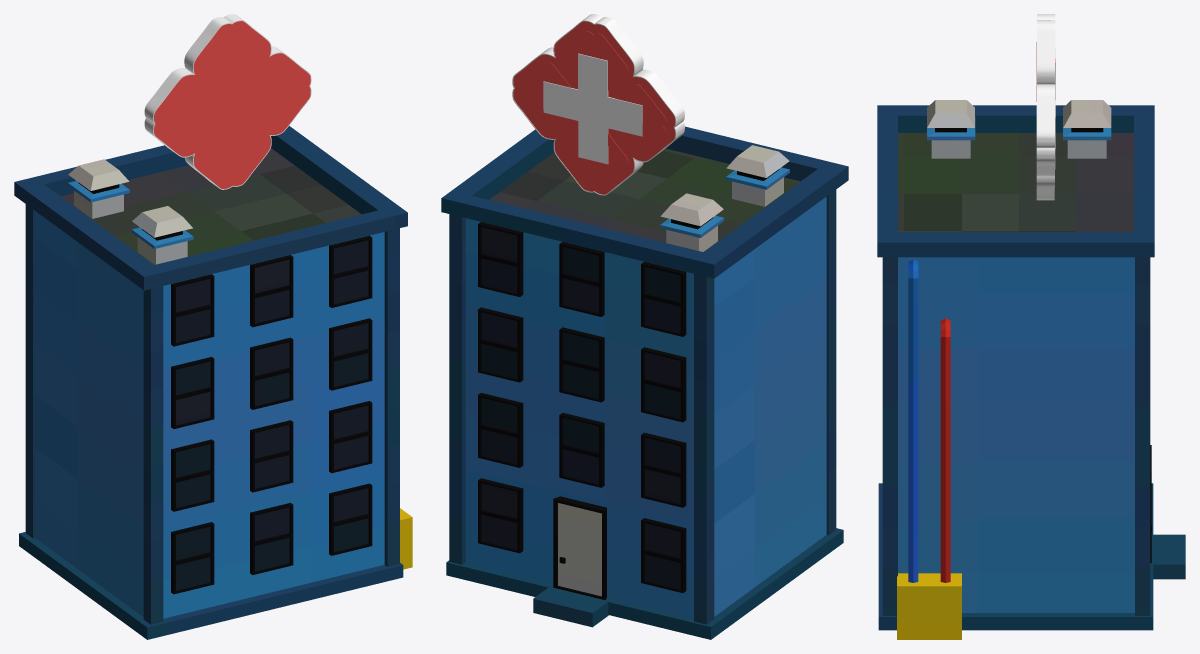
The model's file is 红十字会.gltf.
The picture shows the model from 3 angles, left to right: view 1: azimuth 30°, elevation 25°; view 2: azimuth 150°, elevation 25°; view 3: azimuth 270°, elevation 25°; orthographic projection. The views are drawn at different scales.
Visible parts, largest first — view 1: node_Apartment_01_-50250, node_Line06_-50270, node_Line02_-50262; view 2: node_Apartment_01_-50250, node_Rectangle02_-50272, node_Line06_-50270, node_Line02_-50262, node_Line03_-50264, node_Line01_-50260, node_Line04_-50266, node_Line05_-50268; view 3: node_Apartment_01_-50250, node_Line02_-50262.
Boxes of the visible parts, box(x1,y1,x2,y2) form: node_Apartment_01_-50250: box(14, 126, 412, 639); node_Line06_-50270: box(154, 21, 310, 188); node_Line02_-50262: box(144, 14, 311, 189); node_Apartment_01_-50250: box(441, 126, 848, 639); node_Rectangle02_-50272: box(543, 53, 642, 164); node_Line06_-50270: box(513, 21, 675, 194); node_Line02_-50262: box(512, 14, 684, 195); node_Line03_-50264: box(615, 84, 666, 155); node_Line01_-50260: box(559, 31, 628, 89); node_Line04_-50266: box(520, 62, 571, 134); node_Line05_-50268: box(559, 128, 628, 185); node_Apartment_01_-50250: box(877, 100, 1185, 639); node_Line02_-50262: box(1036, 14, 1055, 200).
Bounding box in the file's own units: 10.56 × 19.1 × 9.5.
